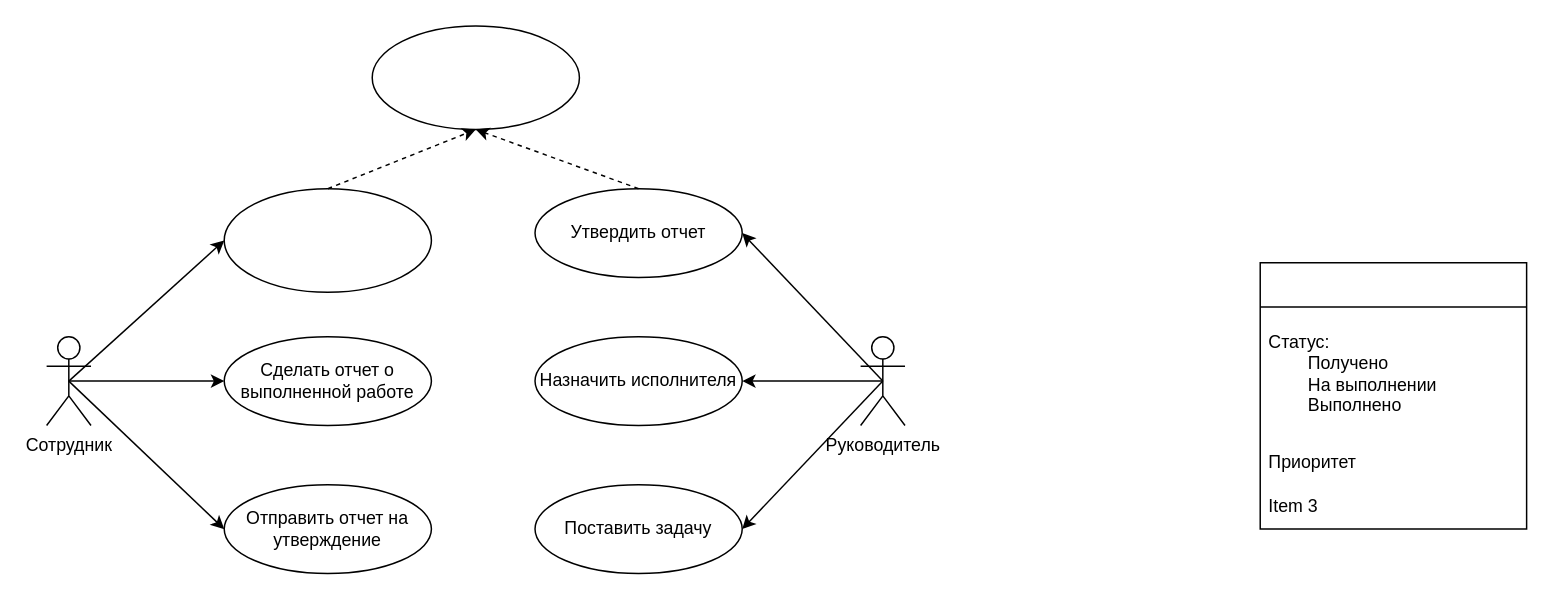
Image size: 1553x599. Some labels were removed from this diagram. Each missing label, with the box of its shape:
Выбрать задачу из списка: (223, 187, 431, 292)
Изменить статус задачи: (371, 24, 579, 130)
Список задач: (1259, 261, 1527, 529)
